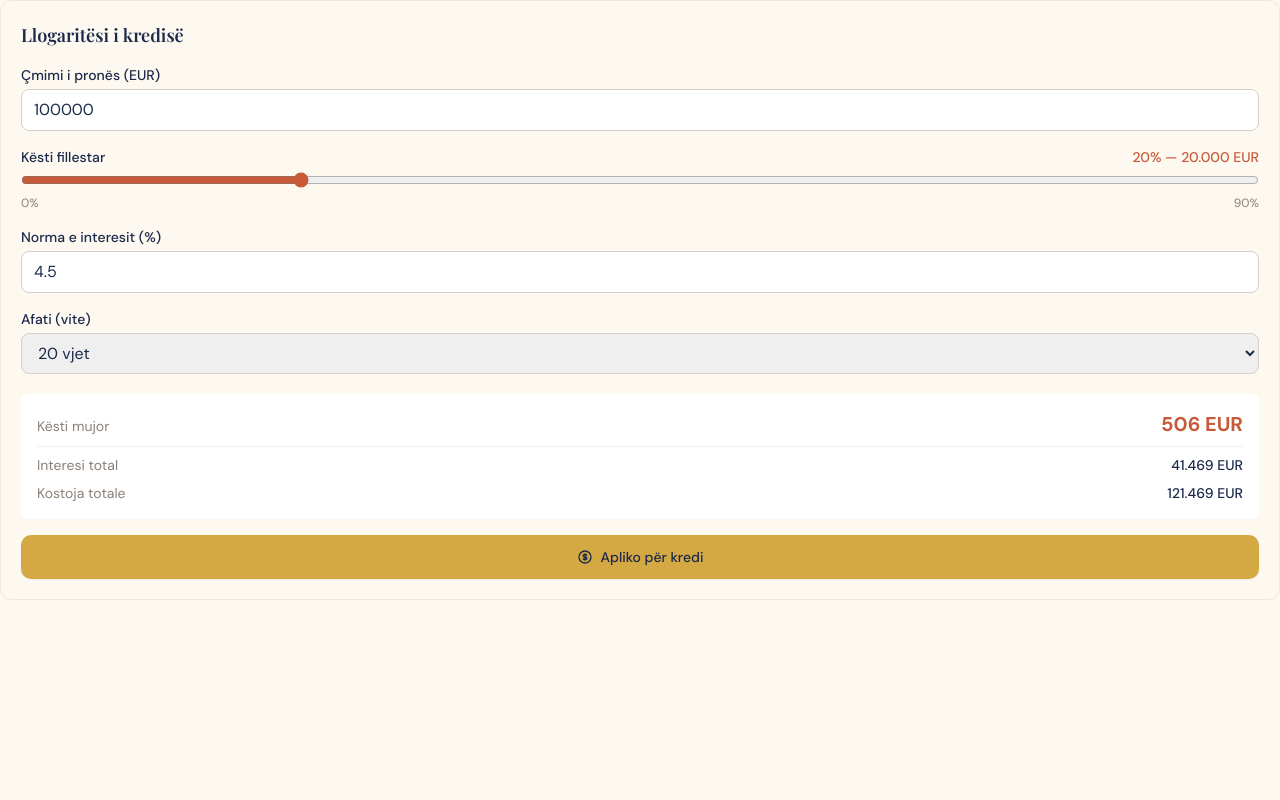
it: MortgageCalculator component › updates monthly payment when inputs change
This screenshot has width=1280, height=800.
Replace the text in the number field labelled "Çmimi i pronës (EUR)" with "200000" at (640, 110), box [21, 89, 1259, 131]
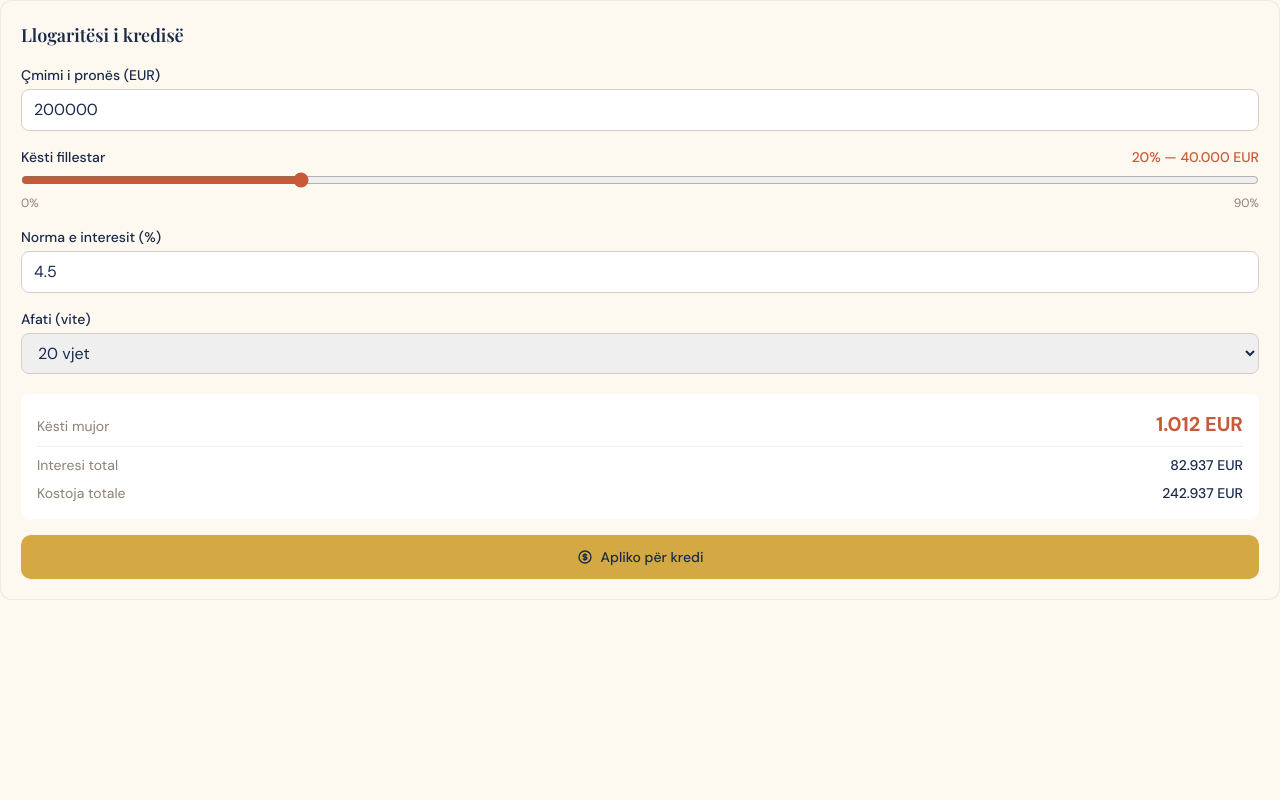
Now the text "1.012 EUR" is shown, box [1156, 410, 1243, 438]
